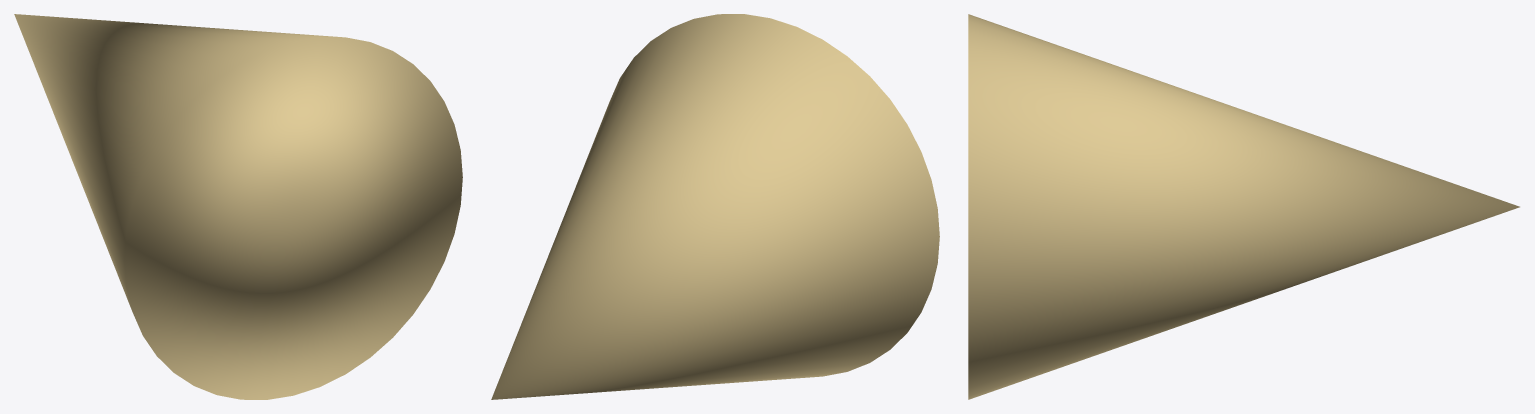
The model's file is gan_cone.glb.
The picture shows the model from 3 angles, left to right: view 1: azimuth 30°, elevation 25°; view 2: azimuth 150°, elevation 25°; view 3: azimuth 270°, elevation 25°; orthographic projection.
Size of the model in its own units: 0.9947 by 0.9947 by 1.42.
